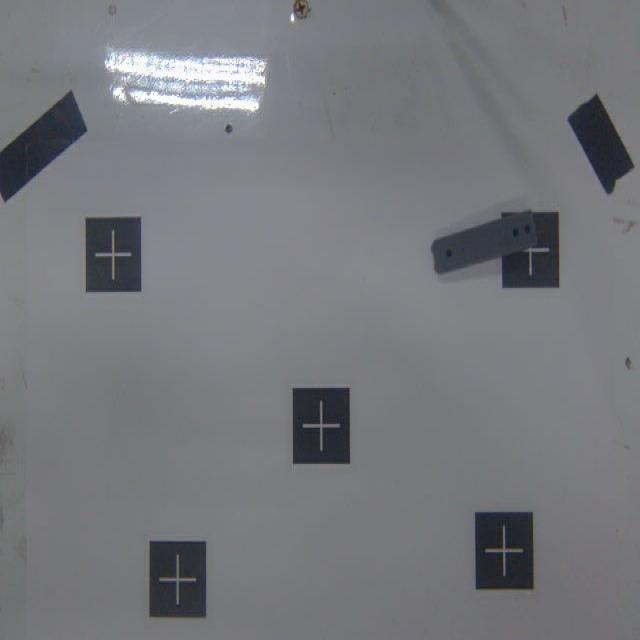dot: (475, 512, 535, 590), (292, 388, 350, 465), (149, 540, 205, 619), (85, 218, 142, 294), (504, 212, 560, 286)
